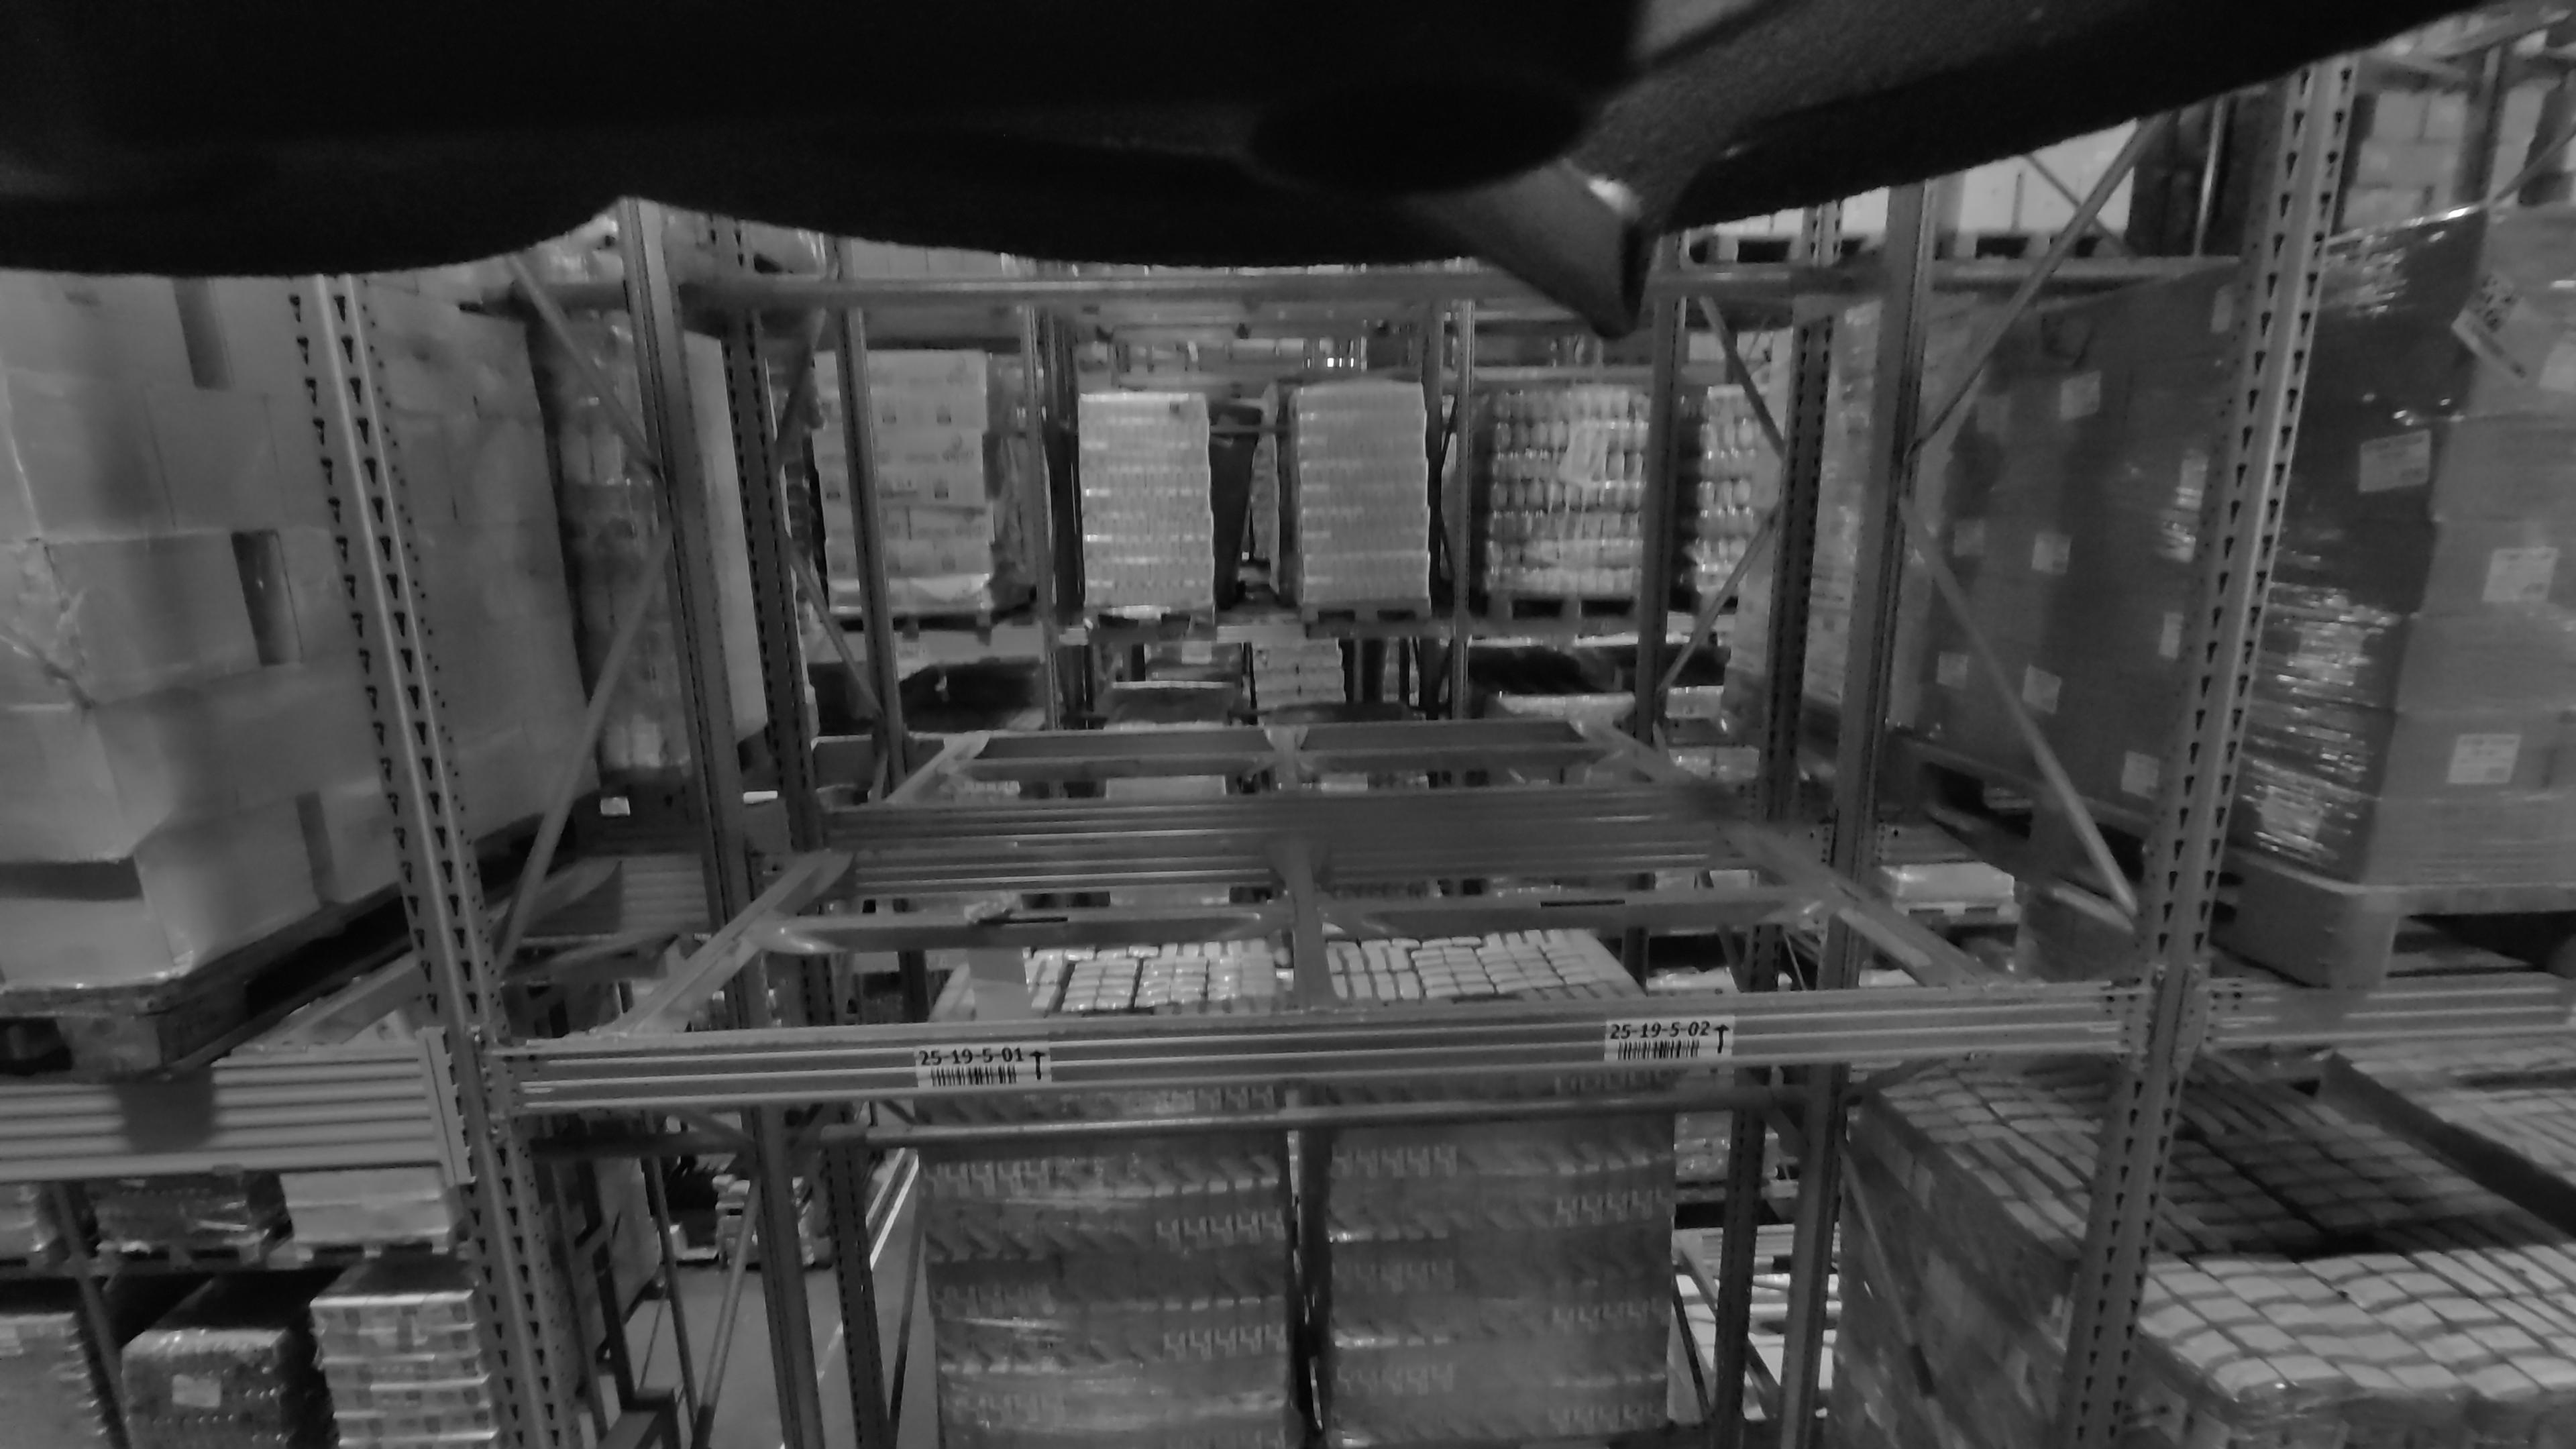empty-shelf: (1346, 221, 1997, 994), (731, 212, 1322, 1026), (881, 232, 1274, 798), (1329, 246, 1668, 798)
